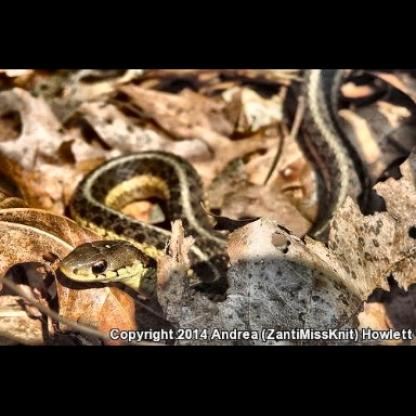Snake: (54, 145, 232, 307)
